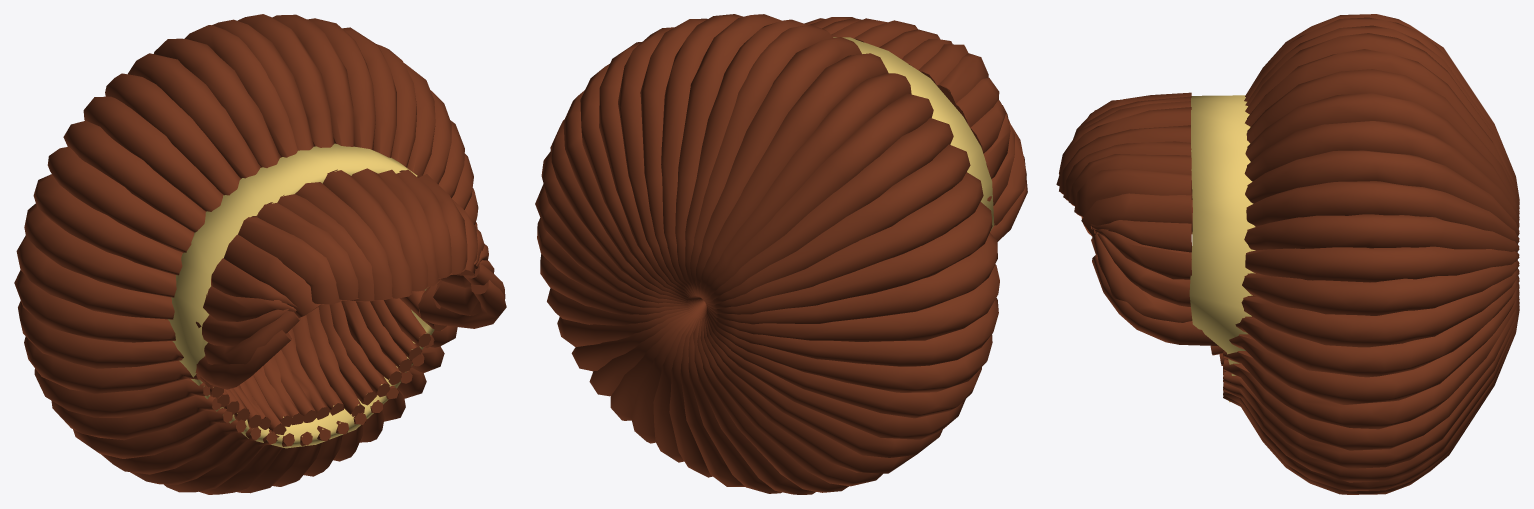
File: hair-9-b0730f39.glb
The picture shows the model from 3 angles, left to right: view 1: azimuth 30°, elevation 25°; view 2: azimuth 150°, elevation 25°; view 3: azimuth 270°, elevation 25°; orthographic projection. The views are drawn at different scales.
Visible parts, largest first — view 1: hair_9.001; view 2: hair_9.001; view 3: hair_9.001.
Part boxes in pixels (bbox=[...]): hair_9.001: bbox=[14, 14, 506, 494]; hair_9.001: bbox=[535, 14, 1027, 494]; hair_9.001: bbox=[1056, 14, 1519, 494].
Bounding box in the file's own units: 2.77 × 2.76 × 2.66.
